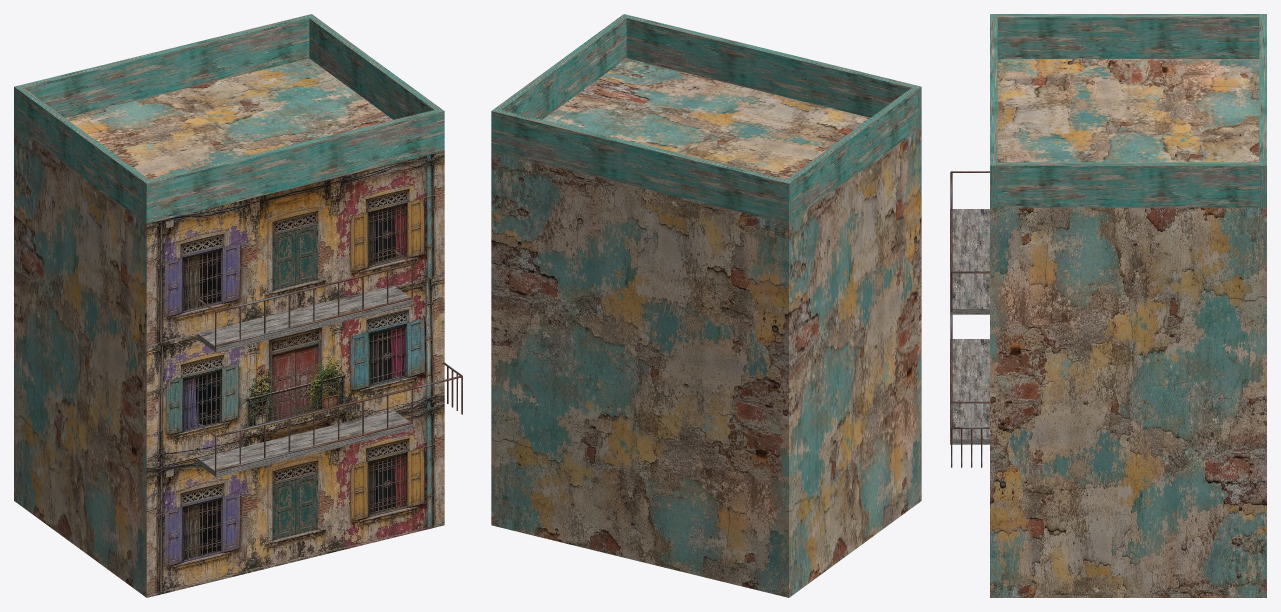
Rendered from bld_oldhaka_block_2.glb.
The picture shows the model from 3 angles, left to right: view 1: azimuth 30°, elevation 25°; view 2: azimuth 150°, elevation 25°; view 3: azimuth 270°, elevation 25°; orthographic projection. The views are drawn at different scales.
Visible parts, largest first — view 1: bld_oldhaka_block_2; view 2: bld_oldhaka_block_2; view 3: bld_oldhaka_block_2.
Part boxes in pixels (box(x1,y1,x2,y2)): bld_oldhaka_block_2: box(14, 14, 462, 597); bld_oldhaka_block_2: box(491, 14, 921, 597); bld_oldhaka_block_2: box(950, 14, 1266, 597).
Size of the model in its own units: 7 by 9.3 by 6.18.
5 materials, 5 textured.
